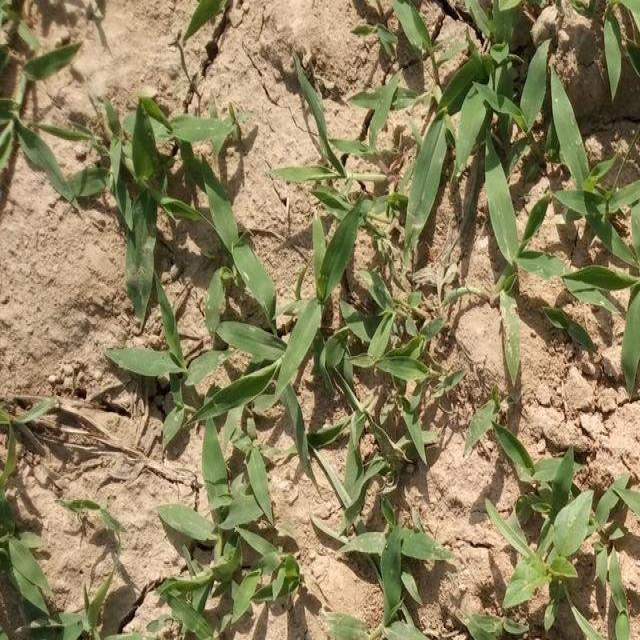weed: (117, 121, 303, 640), (318, 223, 427, 633), (401, 4, 531, 251), (482, 431, 628, 636), (552, 107, 640, 372), (288, 58, 416, 218), (0, 525, 112, 640), (5, 0, 69, 191), (70, 84, 120, 219), (478, 263, 535, 367), (0, 404, 43, 516), (177, 0, 219, 43)
